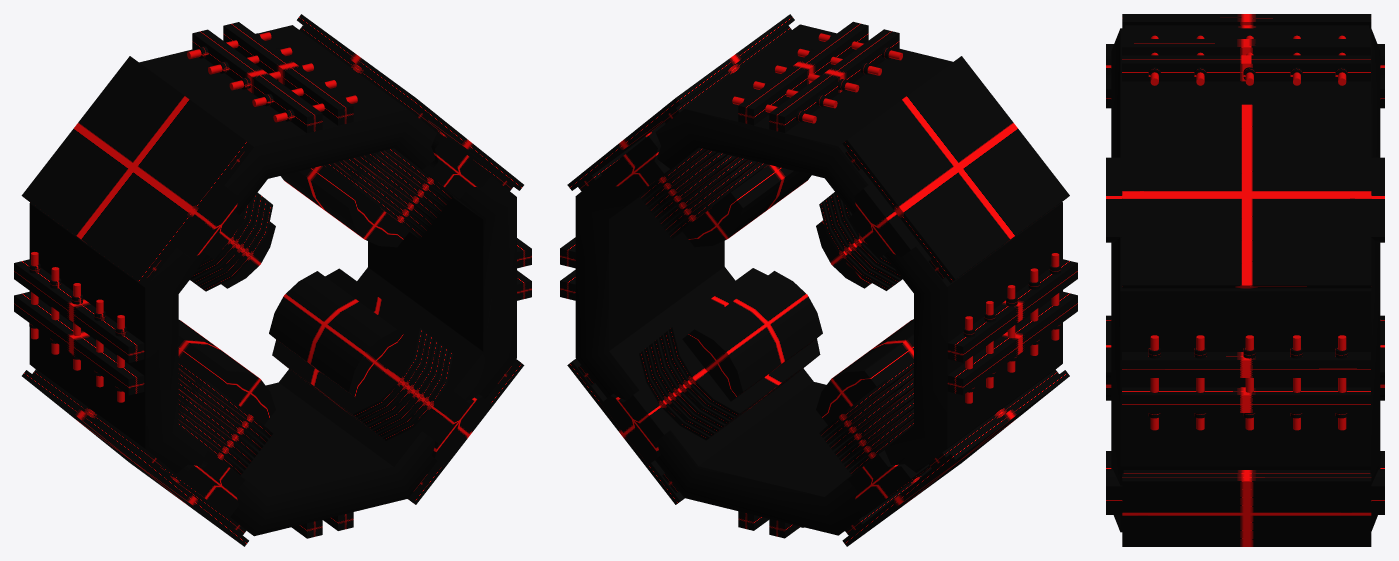
Rendered from MagnetRedRotate.FBX.
3 renders of one model, left to right at view 1: azimuth 30°, elevation 25°; view 2: azimuth 150°, elevation 25°; view 3: azimuth 270°, elevation 25°, orthographic. The views are drawn at different scales.
Parts seen in each view (by area): view 1: Torus001, Box046, Box032, Box031, Box016, Box024, Box056, Box052, Box055, Box051, Box040, Box036 (+31 smaller); view 2: Torus001, Box046, Box032, Box031, Box016, Box024, Box056, Box052, Box055, Box051, Box040, Box039 (+31 smaller); view 3: Torus001, Box043, Box033, Box050, Box049, Box052, Box051, Box046, Box037, Box039, Box034, Box048 (+6 smaller).
Part boxes in pixels (box(x1,y1,x2,y2)): Torus001: box(29, 25, 516, 536); Box046: box(21, 56, 249, 282); Box032: box(269, 271, 409, 401); Box031: box(272, 268, 423, 417); Box016: box(281, 165, 409, 247); Box024: box(178, 320, 275, 424); Box056: box(14, 291, 144, 395); Box052: box(223, 22, 353, 125); Box055: box(14, 259, 144, 362); Box051: box(192, 29, 322, 133); Box040: box(22, 370, 248, 546); Box036: box(172, 182, 244, 259); Torus001: box(575, 24, 1062, 535); Box046: box(842, 56, 1069, 283); Box032: box(682, 271, 822, 401); Box031: box(668, 268, 820, 416); Box016: box(682, 164, 811, 247); Box024: box(816, 319, 913, 424); Box056: box(947, 291, 1077, 395); Box052: box(738, 21, 868, 125); Box055: box(947, 259, 1077, 362); Box051: box(769, 29, 899, 132); Box040: box(842, 370, 1069, 546); Box039: box(601, 384, 678, 464); Torus001: box(1111, 28, 1380, 532); Box043: box(1122, 104, 1371, 288); Box033: box(1122, 473, 1371, 546); Box050: box(1122, 387, 1370, 412); Box049: box(1122, 352, 1370, 377); Box052: box(1122, 55, 1370, 81); Box051: box(1122, 39, 1370, 55); Box046: box(1122, 14, 1371, 28); Box037: box(1106, 157, 1384, 242); Box039: box(1106, 451, 1384, 514); Box034: box(1123, 470, 1370, 473); Box048: box(1124, 25, 1369, 28).
Bounding box in the file's own units: 23.89 × 23.87 × 13.19.
Materials: 3 (1 with a texture image).
